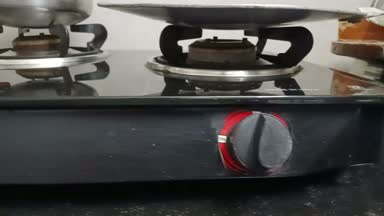noflame_gason: (155, 27, 328, 180)
